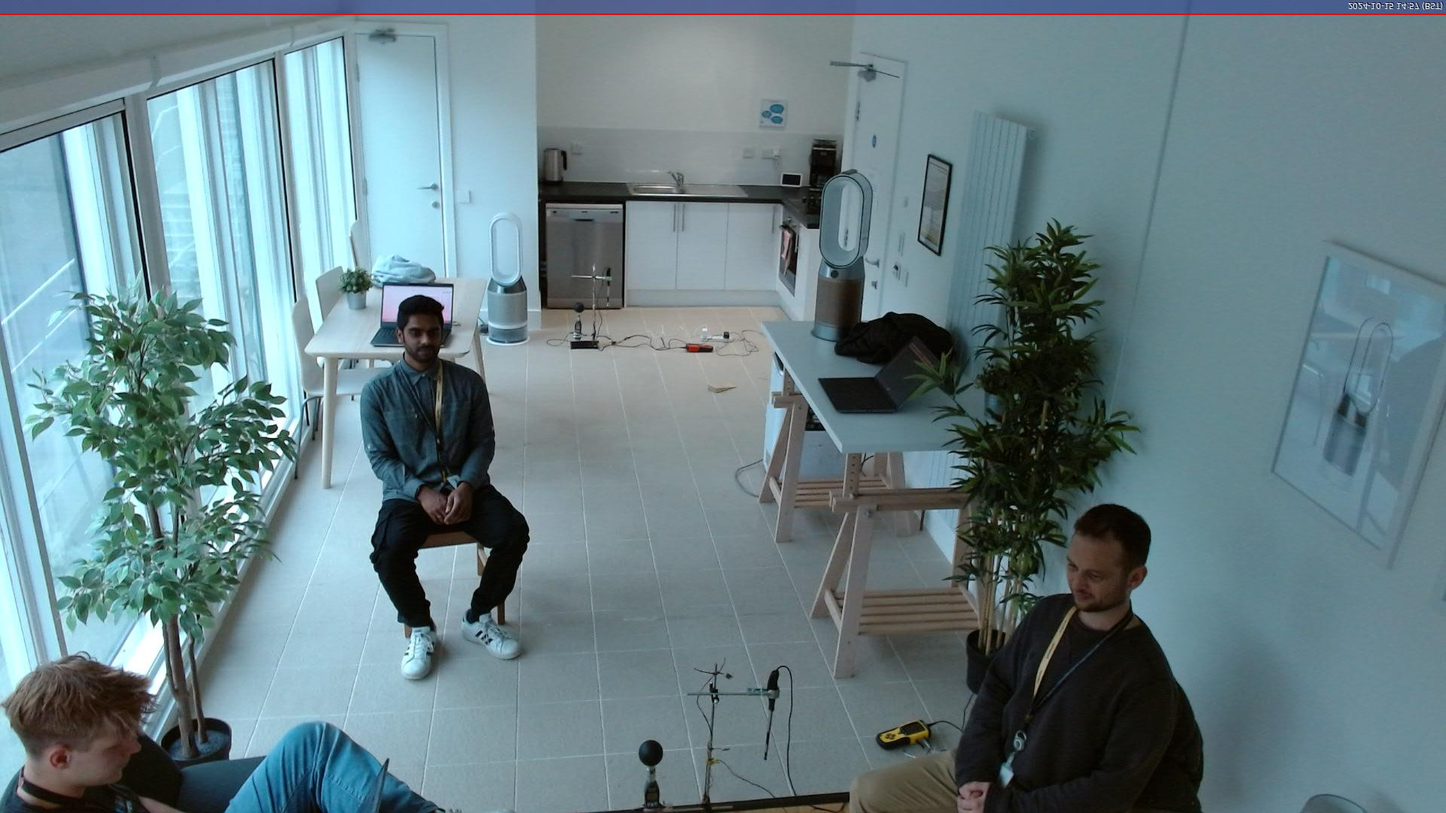long sleeve shirt: (359, 356, 495, 506)
short sleeve shirt: (0, 751, 144, 813)
sweater: (953, 590, 1185, 813)
trousers: (370, 484, 532, 634), (217, 716, 447, 813), (845, 745, 963, 813)
